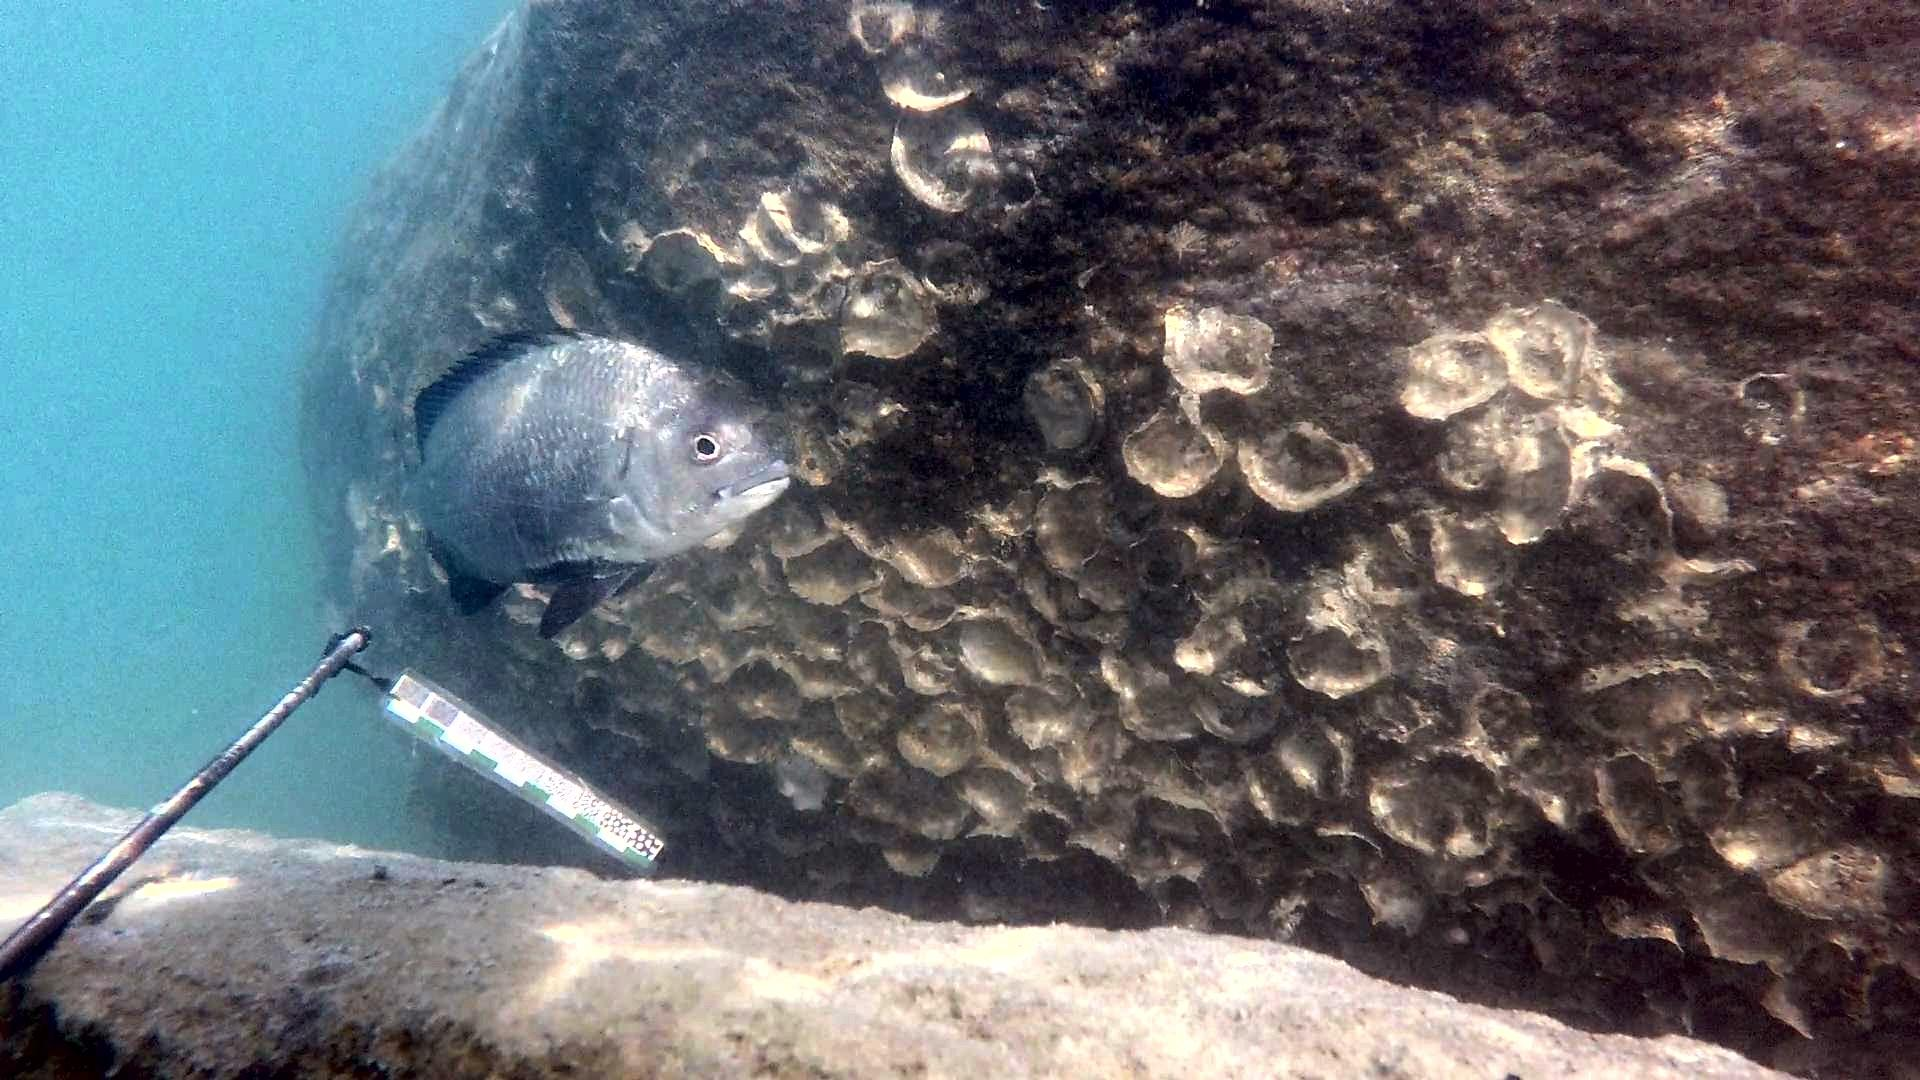acanthopagrus palmaris: (393, 319, 799, 644)
